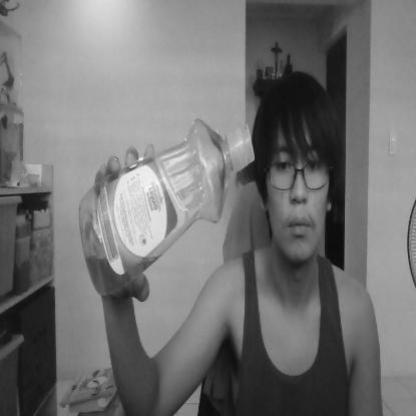Plastic Bottle: (73, 108, 260, 299)
